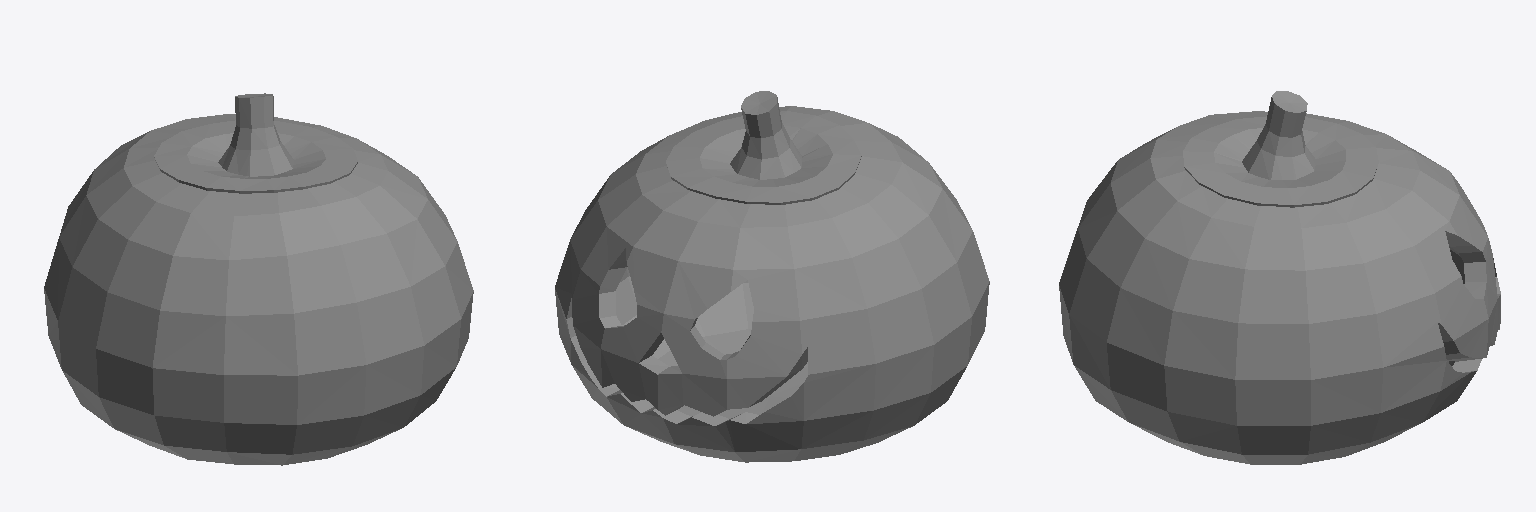
The model's file is pumpkin.obj.
The picture shows the model from 3 angles: view 1: azimuth 30°, elevation 25°; view 2: azimuth 150°, elevation 25°; view 3: azimuth 270°, elevation 25°; orthographic projection.
Parts seen in each view (by area): view 1: 01_-_Default_Mesh; view 2: 01_-_Default_Mesh; view 3: 01_-_Default_Mesh.
Boxes of the visible parts, <box> form: 01_-_Default_Mesh: <box>44,93,473,465</box>; 01_-_Default_Mesh: <box>555,91,989,462</box>; 01_-_Default_Mesh: <box>1059,91,1500,464</box>.
Size of the model in its own units: 5.23 by 4.43 by 5.5.